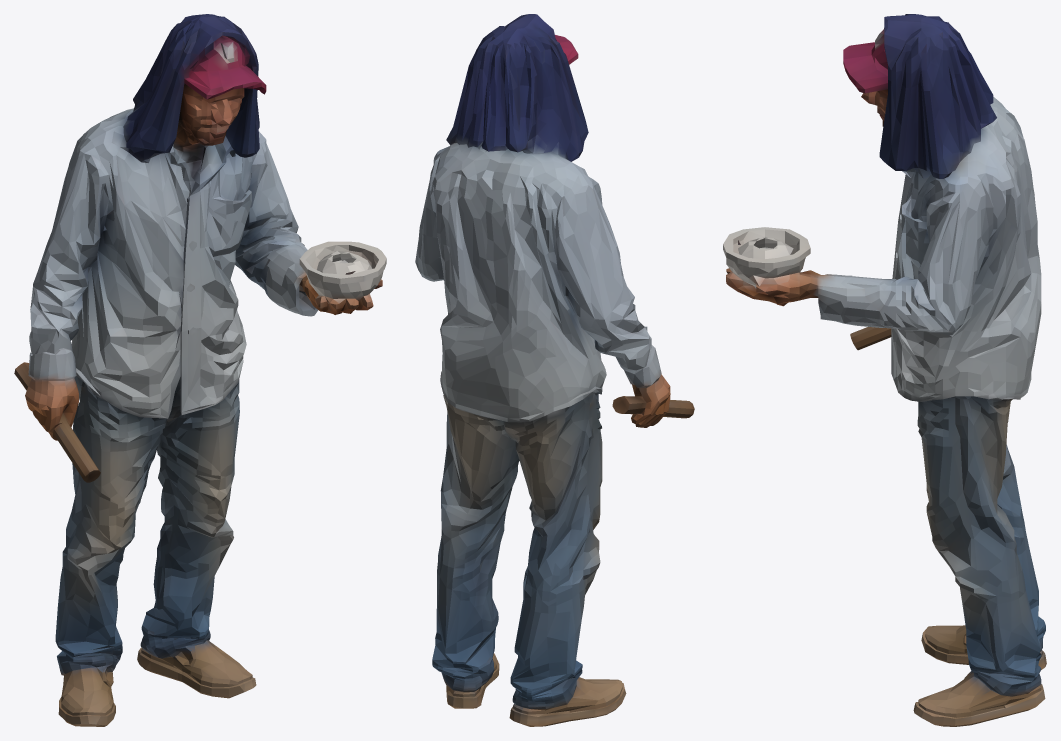
3 renders of one model, left to right at view 1: azimuth 30°, elevation 25°; view 2: azimuth 150°, elevation 25°; view 3: azimuth 270°, elevation 25°, orthographic. The views are drawn at different scales.
Visible parts, largest first — view 1: texture_pbr_v128; view 2: texture_pbr_v128; view 3: texture_pbr_v128.
Part boxes in pixels (<box>): texture_pbr_v128: <box>14,14,386,726</box>; texture_pbr_v128: <box>415,14,694,726</box>; texture_pbr_v128: <box>723,14,1046,726</box>.
Bounding box in the file's own units: 0.4418 × 1.1 × 0.4747.
Materials: 1 (1 with a texture image).
